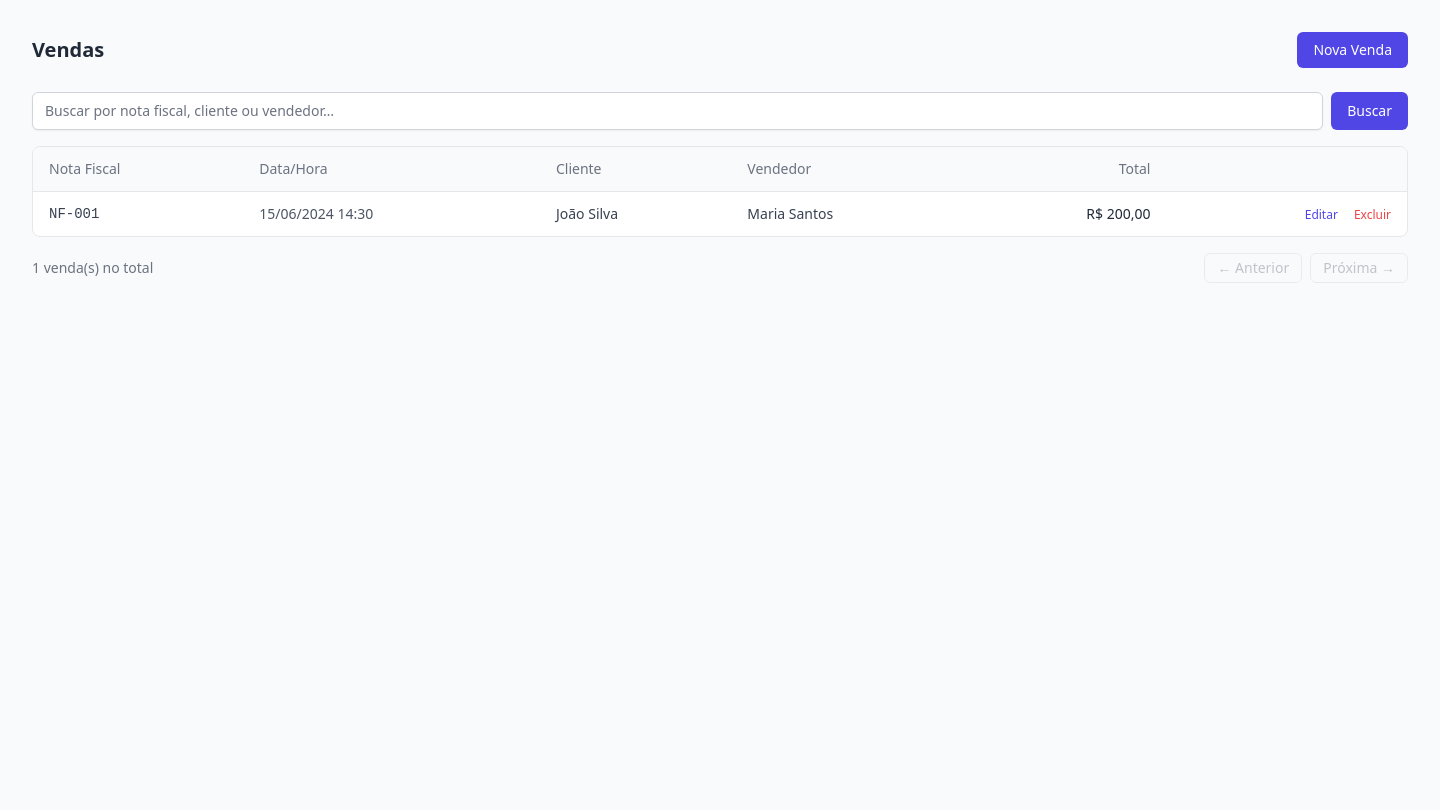
Scenario: SalesPage › opens create modal when Nova Venda is clicked
Expected: the text "NF-001" is shown, x1=33 y1=192 x2=243 y2=236
Click the button "Nova Venda" at (1353, 50), box x1=1297 y1=32 x2=1408 y2=68
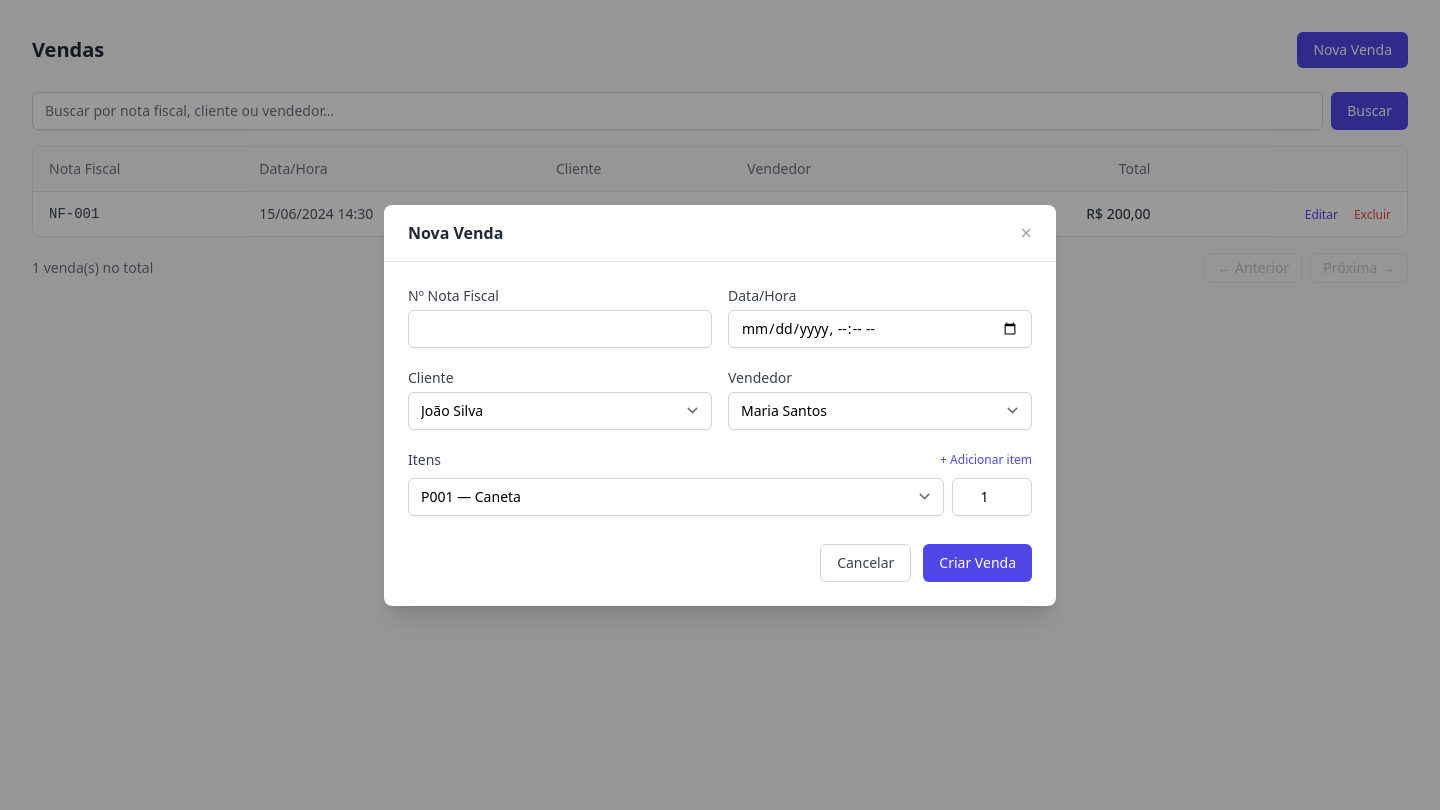
Expected: the heading "Nova Venda" is shown, x1=408 y1=220 x2=503 y2=244
